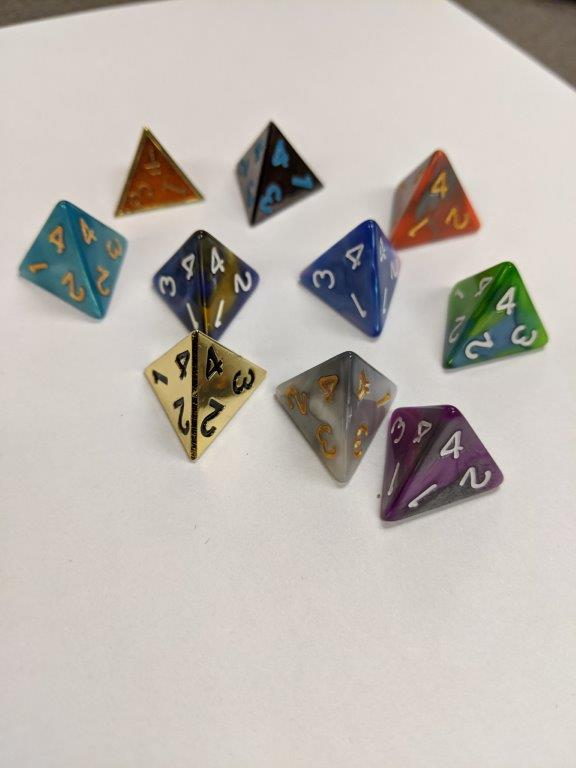d4-4: (140, 329, 270, 467), (271, 345, 396, 483), (383, 400, 504, 524), (14, 198, 132, 324), (294, 217, 402, 340), (438, 260, 549, 371), (152, 227, 261, 336), (234, 110, 325, 227), (391, 145, 481, 250), (112, 127, 204, 221)
